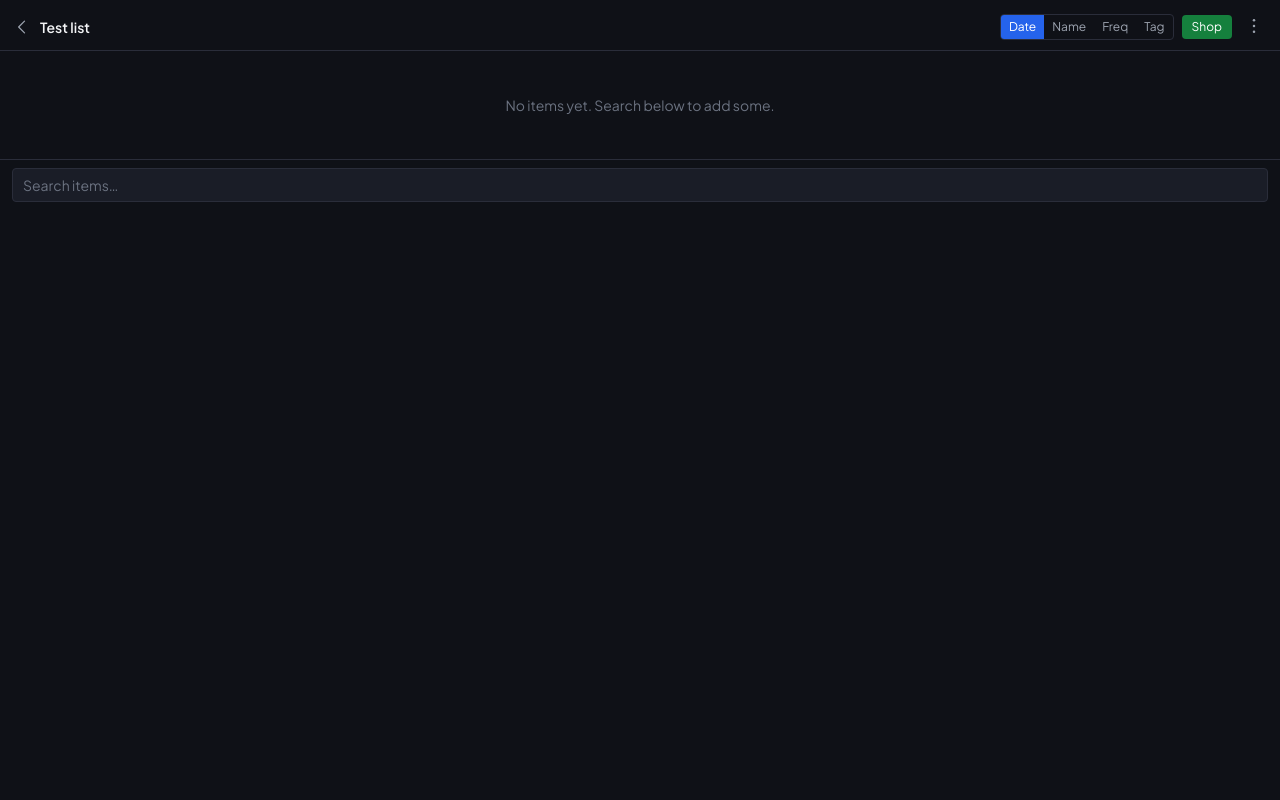
it: ListScreen — rename list › pre-fills the input with the current list name
Click the button named "more options" at (1254, 26), box [1240,12,1268,40]
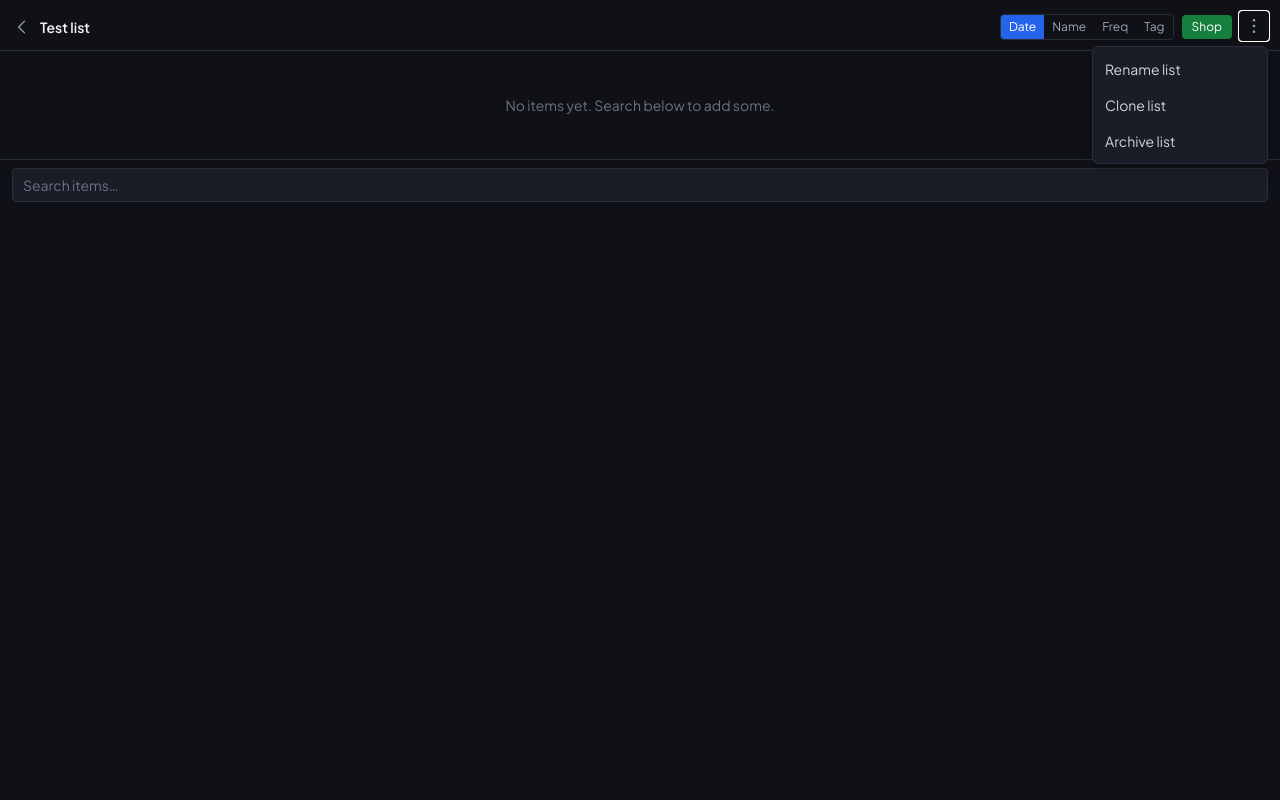
Click the button "Rename list" at (1180, 69), box [1093,51,1267,87]
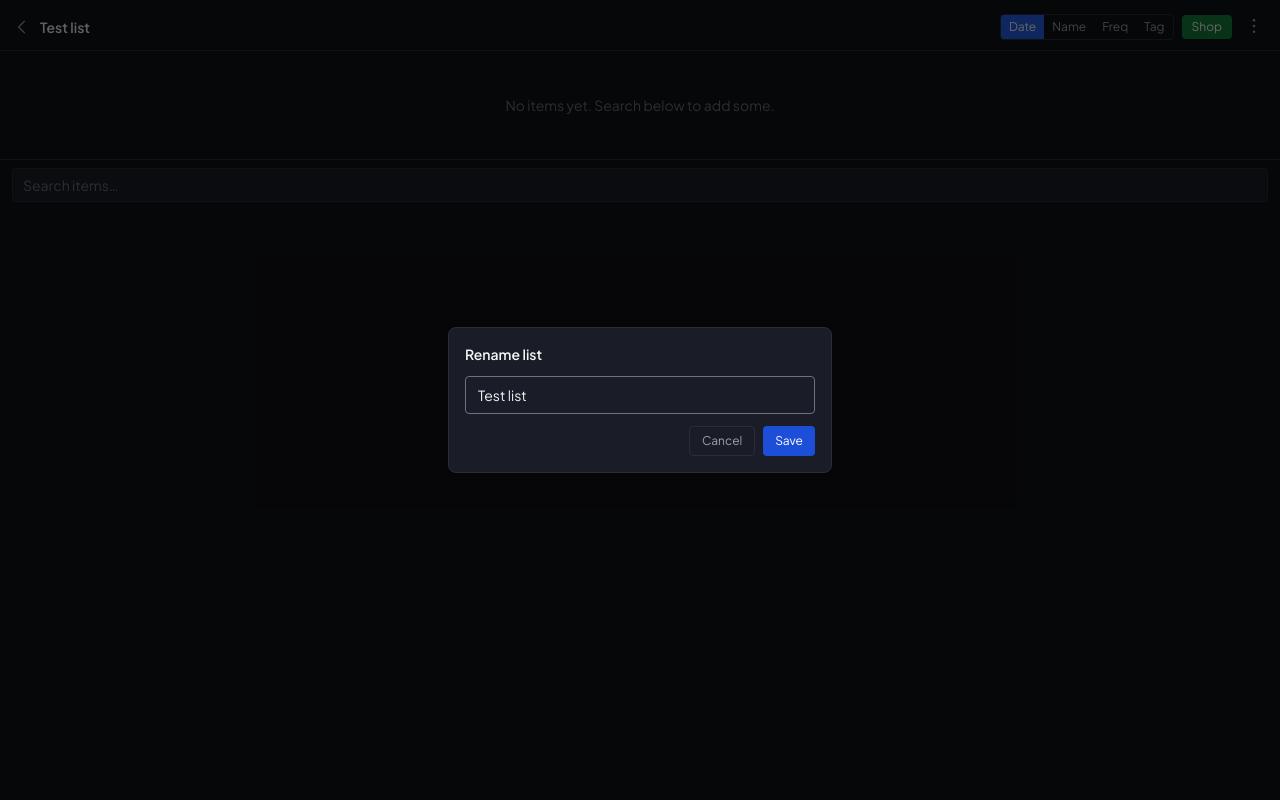
Expected: the field named "list name" holds "Test list", [465,376,815,414]
